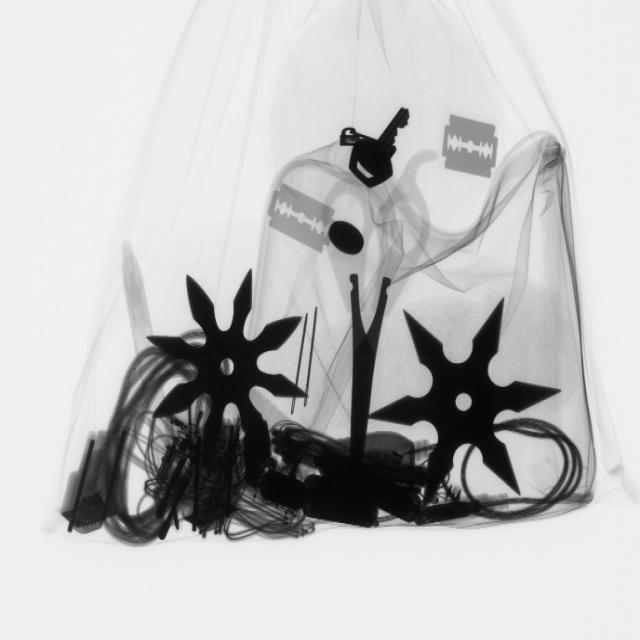BLADE: (264, 178, 340, 260), (436, 109, 505, 188)
SHURIKEN: (379, 296, 554, 503), (151, 267, 309, 467)
